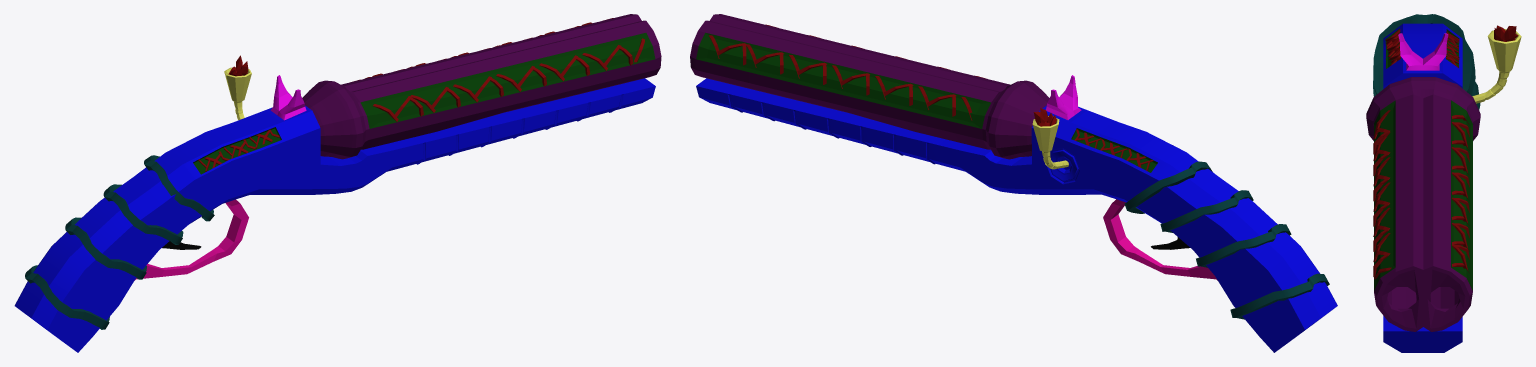
File: Sawed-off-from-maya.fbx
The picture shows the model from 3 angles, left to right: view 1: azimuth 30°, elevation 25°; view 2: azimuth 150°, elevation 25°; view 3: azimuth 270°, elevation 25°; orthographic projection. The views are drawn at different scales.
Visible parts, largest first — view 1: Saweedoff1; view 2: Saweedoff1; view 3: Saweedoff1.
Part boxes in pixels (box(x1,y1,x2,y2)): Saweedoff1: box(14, 14, 661, 352); Saweedoff1: box(690, 14, 1337, 352); Saweedoff1: box(1366, 14, 1521, 352).
Size of the model in its own units: 14.37 by 4.7 by 2.6.
